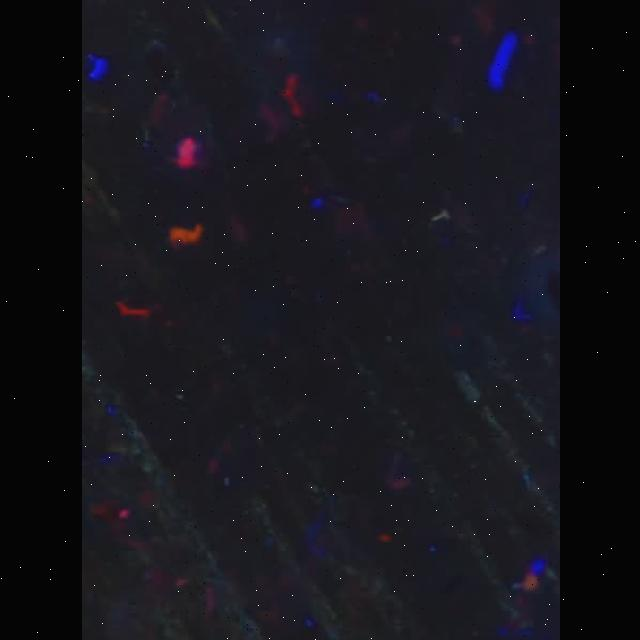Fragment: (168, 224, 202, 246)
